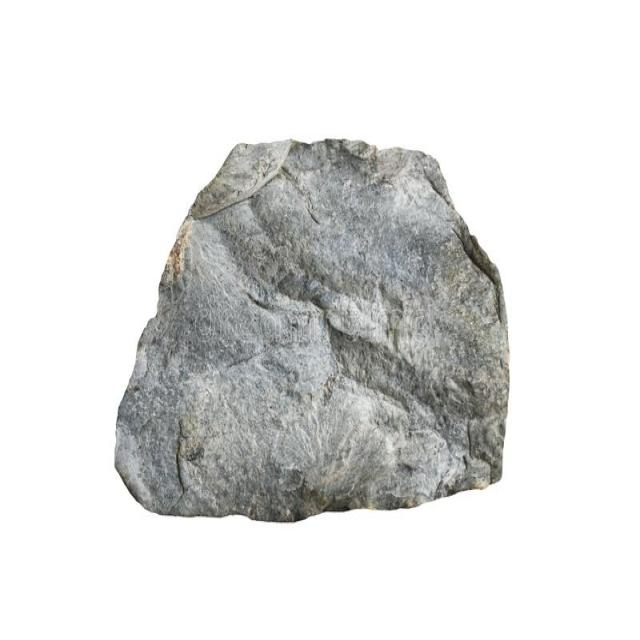Sedimentary: (114, 125, 536, 543)
